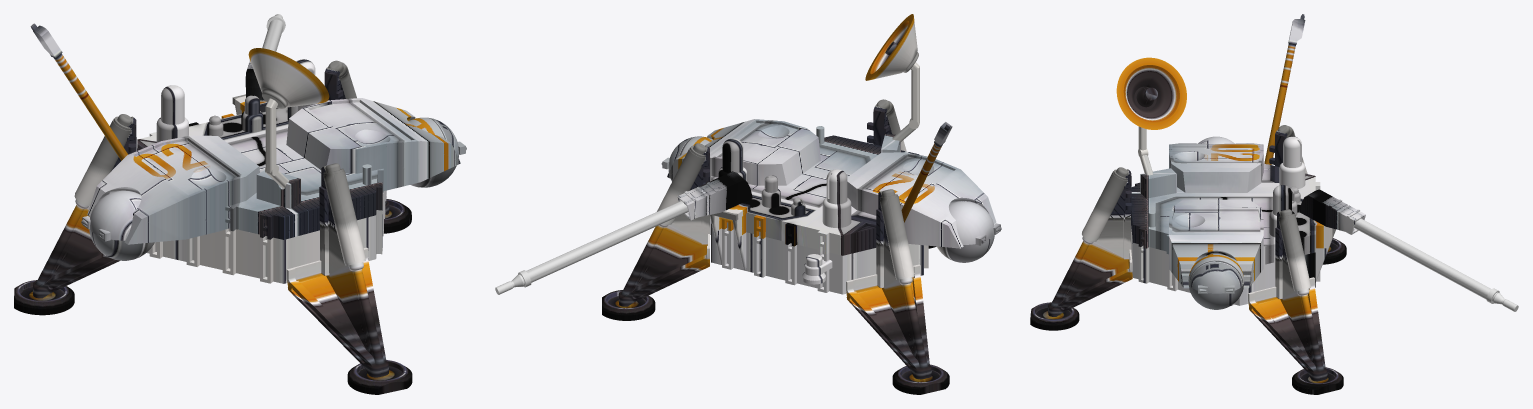
The model's file is Lander.fbx.
The picture shows the model from 3 angles, left to right: view 1: azimuth 30°, elevation 25°; view 2: azimuth 150°, elevation 25°; view 3: azimuth 270°, elevation 25°; orthographic projection. The views are drawn at different scales.
Visible parts, largest first — view 1: body_top, leg1, body_bottom, leg3, dish, antenna, platter1, platter3, dish_pole, leg2, platter2, sensor_pole (+1 smaller); view 2: body_top, leg3, body_bottom, leg2, sensor_pole, sensor_joint, dish, platter3, platter2, leg1, antenna, dish_pole; view 3: body_top, leg2, leg1, dish, body_bottom, sensor_pole, sensor_joint, antenna, platter1, platter2, leg3, dish_pole.
Boxes of the visible parts, x1,y1,x2,y2 form: body_top: [81, 59, 466, 244]; leg1: [286, 163, 388, 377]; body_bottom: [89, 155, 458, 283]; leg3: [33, 114, 136, 298]; dish: [248, 48, 329, 108]; antenna: [30, 23, 127, 160]; platter1: [347, 360, 412, 394]; platter3: [14, 280, 74, 315]; dish_pole: [265, 98, 288, 189]; leg2: [324, 60, 389, 214]; platter2: [384, 199, 411, 233]; sensor_pole: [262, 19, 283, 51]; body_top: [661, 119, 1001, 255]; leg3: [846, 189, 931, 379]; body_bottom: [668, 169, 994, 294]; leg2: [618, 143, 709, 306]; sensor_pole: [526, 201, 688, 282]; sensor_joint: [677, 171, 752, 220]; dish: [865, 14, 918, 80]; platter3: [892, 364, 949, 394]; platter2: [602, 290, 655, 320]; leg1: [867, 99, 906, 151]; antenna: [901, 122, 952, 222]; dish_pole: [892, 62, 919, 142]; body_top: [1131, 136, 1335, 293]; leg2: [1248, 209, 1327, 381]; leg1: [1048, 167, 1132, 316]; dish: [1116, 57, 1186, 129]; body_bottom: [1131, 226, 1328, 309]; sensor_pole: [1354, 218, 1491, 299]; sensor_joint: [1299, 189, 1365, 234]; antenna: [1264, 14, 1305, 164]; platter1: [1030, 302, 1079, 330]; platter2: [1292, 367, 1343, 394]; leg3: [1269, 125, 1307, 173]; dish_pole: [1138, 126, 1153, 175].
Bounding box in the file's own units: 14.65 × 10.83 × 19.78.
2 materials, 1 textured.
